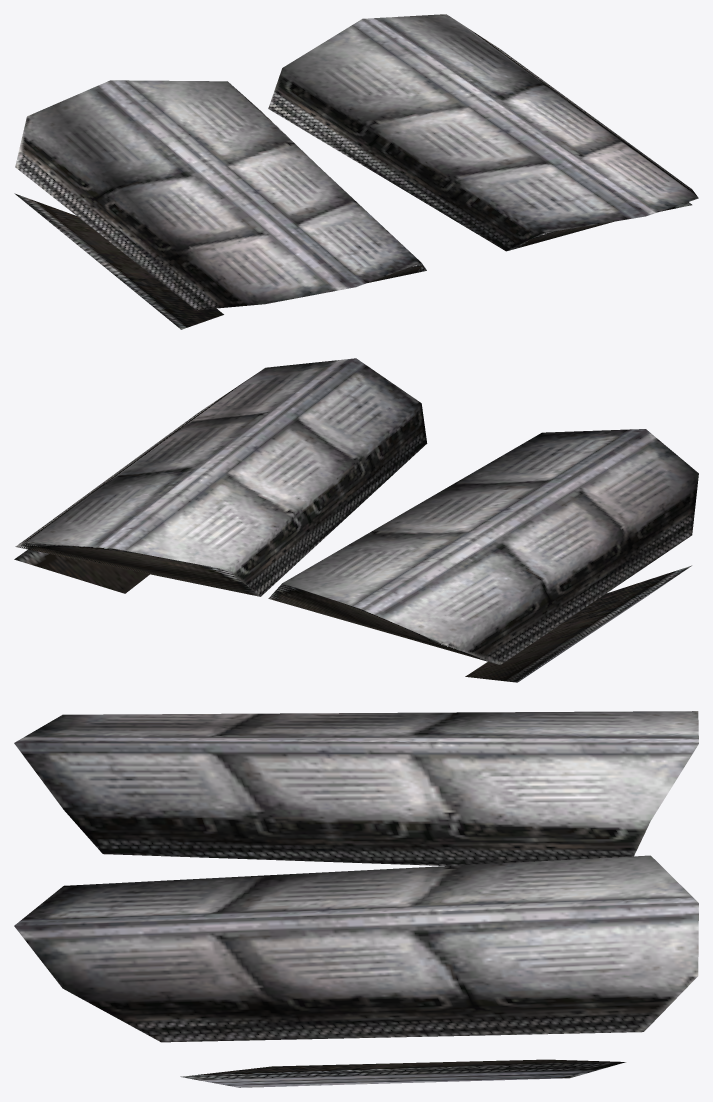
The model's file is LegPads5__EC.glb.
The picture shows the model from 3 angles, top to bottom: view 1: azimuth 30°, elevation 25°; view 2: azimuth 150°, elevation 25°; view 3: azimuth 270°, elevation 25°; orthographic projection. The views are drawn at different scales.
Parts seen in each view (by area): view 1: LegPads5; view 2: LegPads5; view 3: LegPads5.
Part boxes in pixels (left/top/right/bottom): LegPads5: left=14, top=14, right=698, bottom=329; LegPads5: left=14, top=358, right=698, bottom=682; LegPads5: left=14, top=711, right=698, bottom=1087.
Bounding box in the file's own units: 21.54 × 4.08 × 19.31.
Materials: 1 (1 with a texture image).
